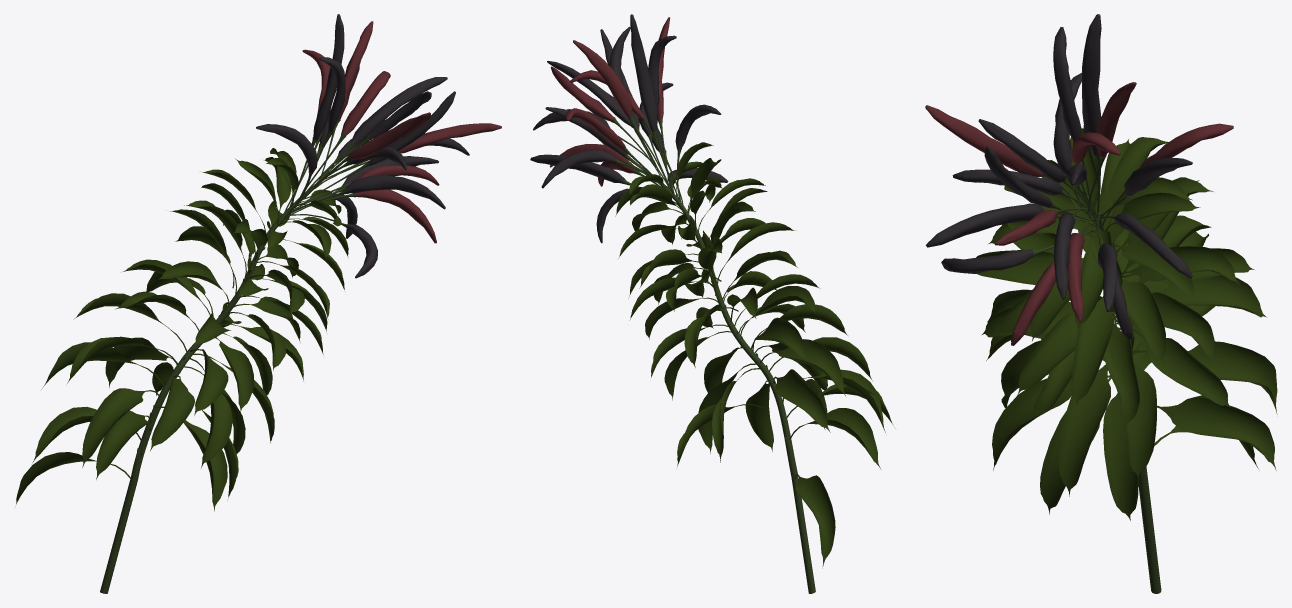
File: pepper1.glb
3 renders of one model, left to right at view 1: azimuth 30°, elevation 25°; view 2: azimuth 150°, elevation 25°; view 3: azimuth 270°, elevation 25°, orthographic. The views are drawn at different scales.
Visible parts, largest first — view 1: Red pepper 24092019 5; view 2: Red pepper 24092019 5; view 3: Red pepper 24092019 5.
Boxes of the visible parts, left/top/right/bottom form: Red pepper 24092019 5: left=16, top=14, right=501, bottom=593; Red pepper 24092019 5: left=530, top=14, right=895, bottom=593; Red pepper 24092019 5: left=925, top=14, right=1277, bottom=593.
Size of the model in its own units: 0.1986 by 0.252 by 0.1126.
